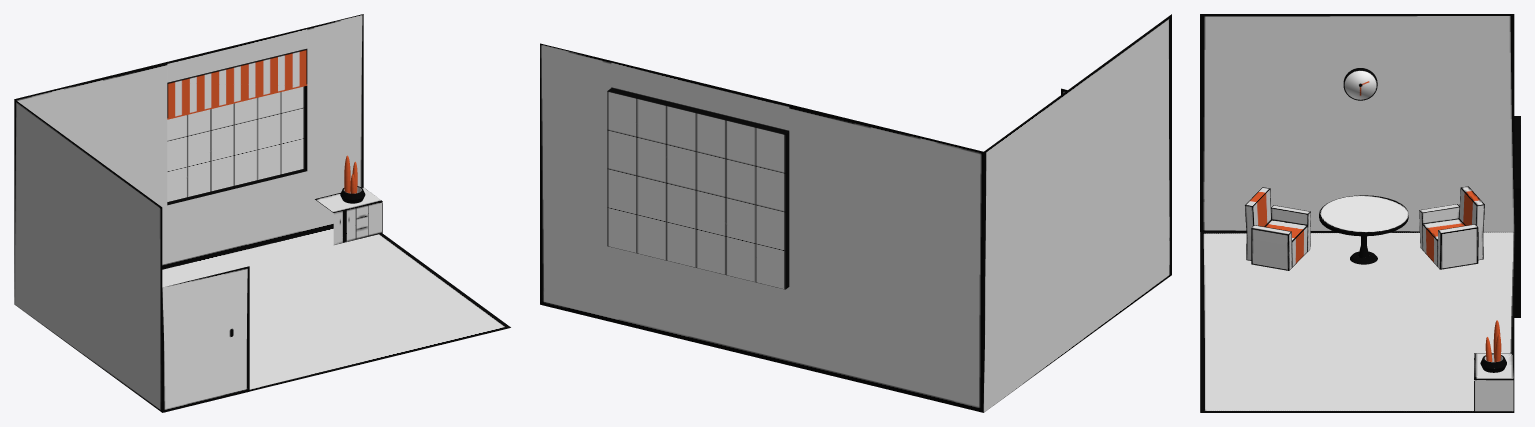
The model's file is office4.5.fbx.
3 renders of one model, left to right at view 1: azimuth 30°, elevation 25°; view 2: azimuth 150°, elevation 25°; view 3: azimuth 270°, elevation 25°, orthographic. The views are drawn at different scales.
Parts seen in each view (by area): view 1: Cube.001; view 2: Cube.001; view 3: Cube.001.
Part boxes in pixels (<box>): Cube.001: <box>14,14,511,412</box>; Cube.001: <box>540,14,1171,412</box>; Cube.001: <box>1200,14,1520,412</box>.
Size of the model in its own units: 3200 by 1800 by 2400.
2 materials, 2 textured.
